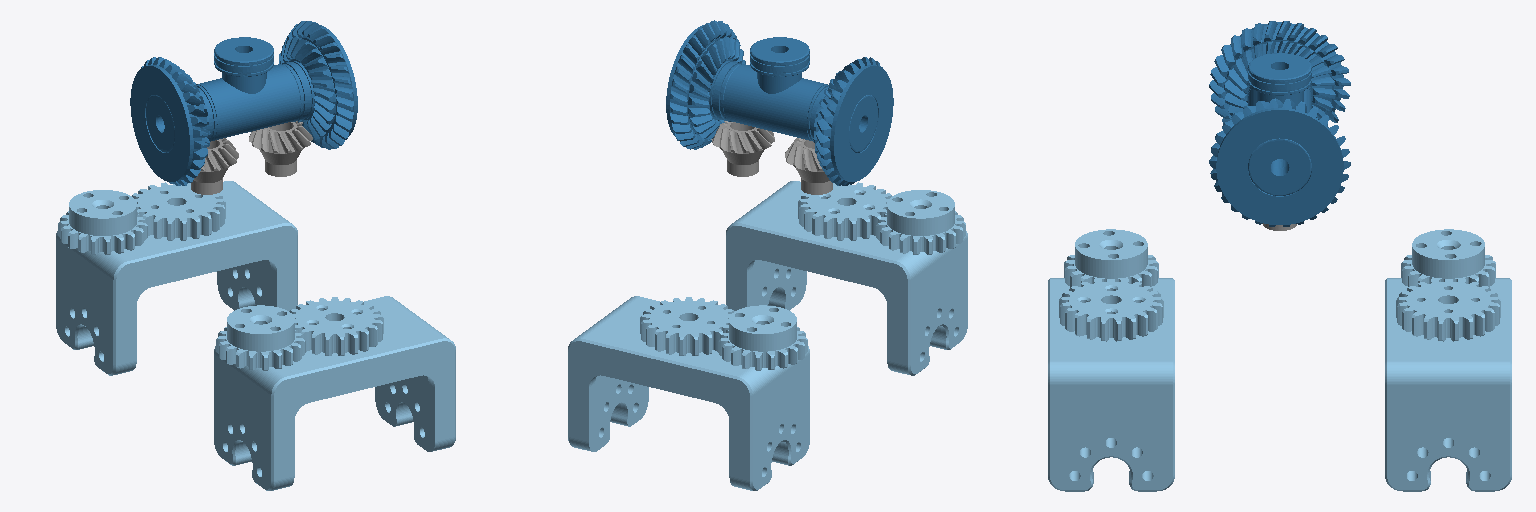
robot.urdf — toddlerbot_legs:
<?xml version="1.0" ?><robot name="toddlerbot_legs">  
  <link name="torso">    
    <visual>      
      <origin xyz="0 0 0" rpy="0 -0 0"/>      
      <geometry>        
        <mesh filename="package:///meshes/torso_visual.stl"/>        
      </geometry>      
      <material name="torso_material">        
        <color rgba="0.58593977560074750333 0.73200332251165189934 0.84622153029708713223 1.0"/>        
      </material>      
    </visual>    
    <collision>      
      <origin xyz="0 0 0" rpy="0 -0 0"/>      
      <geometry>        
        <mesh filename="package:///meshes/torso_collision.stl"/>        
      </geometry>      
    </collision>    
    <inertial>      
      <origin xyz="-0.0075186748665465336777 0.0025090333219585044845 0.072270970201894393914" rpy="0 0 0"/>      
      <mass value="0.58475267652546314423"/>      
      <inertia ixx="0.0016182311860030490405" ixy="-1.4904703028685398913e-05" ixz="-2.0792700935848309104e-06" iyy="0.0013132464205886527821" iyz="2.3933304520818679713e-05" izz="0.0011865975677379551282"/>      
    </inertial>    
  </link>  

  <link name="waist_gears">    
    <visual>      
      <origin xyz="0 0 0" rpy="0 -0 0"/>      
      <geometry>        
        <mesh filename="package:///meshes/waist_gears_visual.stl"/>        
      </geometry>      
      <material name="waist_gears_material">        
        <color rgba="0.2632766275256509525 0.51746399844275270397 0.70128653634567084119 1.0"/>        
      </material>      
    </visual>    
    <collision>      
      <origin xyz="0 0 0" rpy="0 -0 0"/>      
      <geometry>        
        <mesh filename="package:///meshes/waist_gears_collision.stl"/>        
      </geometry>      
    </collision>    
    <inertial>      
      <origin xyz="-2.9688764928041068262e-07 5.6464343503266493767e-08 -0.012588230079602372169" rpy="0 0 0"/>      
      <mass value="0.025809950030454158199"/>      
      <inertia ixx="1.5121316248348308453e-06" ixy="1.8766601003449190681e-11" ixz="4.0584247096300465977e-10" iyy="7.254038670046187235e-06" iyz="3.1280091522235431051e-12" izz="6.9379699728506212154e-06"/>      
    </inertial>    
  </link>  

  <link name="waist_link">    
    <visual>      
      <origin xyz="0 0 0" rpy="0 -0 0"/>      
      <geometry>        
        <mesh filename="package:///meshes/waist_link_visual.stl"/>        
      </geometry>      
      <material name="waist_link_material">        
        <color rgba="0.63401200025306070351 0.68204699127249923674 0.6691019398503622595 1.0"/>        
      </material>      
    </visual>    
    <collision>      
      <origin xyz="0 0 0" rpy="0 -0 0"/>      
      <geometry>        
        <mesh filename="package:///meshes/waist_link_collision.stl"/>        
      </geometry>      
    </collision>    
    <inertial>      
      <origin xyz="-9.1086191328831884098e-07 0.026204483755308764087 -0.030190392008842690391" rpy="0 0 0"/>      
      <mass value="0.16631953490612461088"/>      
      <inertia ixx="6.8622997376115475059e-05" ixy="-6.1328048432543562216e-10" ixz="-3.6786792027265892827e-06" iyy="0.00020057117429216812874" iyz="-3.7255079147358228843e-06" izz="0.00015770127977213135168"/>      
    </inertial>    
  </link>  

  <link name="spiral_bevel_1m_14t_30deg">    
    <visual>      
      <origin xyz="0 0 0" rpy="0 -0 0"/>      
      <geometry>        
        <mesh filename="package:///meshes/spiral_bevel_1m_14t_30deg_visual.stl"/>        
      </geometry>      
      <material name="spiral_bevel_1m_14t_30deg_material">        
        <color rgba="0.64705882352941179736 0.64705882352941179736 0.64705882352941179736 1.0"/>        
      </material>      
    </visual>    
    <collision>      
      <origin xyz="0 0 0" rpy="0 -0 0"/>      
      <geometry>        
        <mesh filename="package:///meshes/spiral_bevel_1m_14t_30deg_collision.stl"/>        
      </geometry>      
    </collision>    
    <inertial>      
      <origin xyz="8.2641075233036431769e-10 3.4055789785436557278e-10 0.0068612577407481632752" rpy="0 0 0"/>      
      <mass value="0.00067997563436136235649"/>      
      <inertia ixx="1.2174575798018972184e-08" ixy="3.8216075412375150261e-18" ixz="4.7204547862376369162e-16" iyy="1.2174575801813739345e-08" iyz="-2.6184097722348798477e-16" izz="1.3178653206314319982e-08"/>      
    </inertial>    
  </link>  

  <joint name="waist_act_1" type="revolute">    
    <origin xyz="5.280785712277463867e-16 0.019600000000000086103 -0.012750000000000089387" rpy="1.5707963267949007768 1.5707963267948918951 0"/>    
    <parent link="waist_link"/>    
    <child link="spiral_bevel_1m_14t_30deg"/>    
    <axis xyz="0 0 1"/>    
    <limit effort="1" velocity="20" lower="-2.7825534678416246059" upper="2.7825534678416246059"/>    
    <joint_properties friction="0.0"/>    
  </joint>  

  <link name="spiral_bevel_1m_14t_30deg_2">    
    <visual>      
      <origin xyz="0 0 0" rpy="0 -0 0"/>      
      <geometry>        
        <mesh filename="package:///meshes/spiral_bevel_1m_14t_30deg_2_visual.stl"/>        
      </geometry>      
      <material name="spiral_bevel_1m_14t_30deg_2_material">        
        <color rgba="0.64705882352941179736 0.64705882352941179736 0.64705882352941179736 1.0"/>        
      </material>      
    </visual>    
    <collision>      
      <origin xyz="0 0 0" rpy="0 -0 0"/>      
      <geometry>        
        <mesh filename="package:///meshes/spiral_bevel_1m_14t_30deg_2_collision.stl"/>        
      </geometry>      
    </collision>    
    <inertial>      
      <origin xyz="7.299096500823498701e-10 5.1591309270179412606e-10 0.0068612577407481632752" rpy="0 0 0"/>      
      <mass value="0.00067997563436136235649"/>      
      <inertia ixx="1.2174575796548751289e-08" ixy="2.6199059649779442379e-18" ixz="5.1847541177444225726e-16" iyy="1.2174575803283980091e-08" iyz="-1.5023607647403962116e-16" izz="1.3178653206314316674e-08"/>      
    </inertial>    
  </link>  

  <joint name="waist_act_2" type="revolute">    
    <origin xyz="-2.7139481743289301149e-16 0.019599999999999884875 -0.032749999999999626632" rpy="1.5707963267948958919 1.3463968515392312764 -4.6112523179512435393e-14"/>    
    <parent link="waist_link"/>    
    <child link="spiral_bevel_1m_14t_30deg_2"/>    
    <axis xyz="0 0 1"/>    
    <limit effort="1" velocity="20" lower="-2.7825534678416246059" upper="2.7825534678416246059"/>    
    <joint_properties friction="0.0"/>    
  </joint>  

  <link name="spur_gear_19_teeth">    
    <visual>      
      <origin xyz="0 0 0" rpy="0 -0 0"/>      
      <geometry>        
        <mesh filename="package:///meshes/spur_gear_19_teeth_visual.stl"/>        
      </geometry>      
      <material name="spur_gear_19_teeth_material">        
        <color rgba="0.61568627450980395466 0.81176470588235294379 0.92941176470588238168 1.0"/>        
      </material>      
    </visual>    
    <collision>      
      <origin xyz="0 0 0" rpy="0 -0 0"/>      
      <geometry>        
        <mesh filename="package:///meshes/spur_gear_19_teeth_collision.stl"/>        
      </geometry>      
    </collision>    
    <inertial>      
      <origin xyz="-4.9968063132990057014e-09 -7.9242207278620244307e-11 0.0045295192537419945097" rpy="0 0 0"/>      
      <mass value="0.0010993711450650537481"/>      
      <inertia ixx="2.9215018435433075427e-08" ixy="2.5903313772733109345e-16" ixz="8.5599808504110491437e-15" iyy="2.9215021540034058468e-08" iyz="1.1526881392988152558e-16" izz="4.5709977027671368266e-08"/>      
    </inertial>    
  </link>  

  <joint name="left_hip_yaw_drive" type="revolute">    
    <origin xyz="-0.036999999999998180178 0.037100000000006128076 -0.039500000000001304901" rpy="-1.5707963267949545116 -4.7901784552298407448e-13 -3.592506663906207747e-13"/>    
    <parent link="waist_link"/>    
    <child link="spur_gear_19_teeth"/>    
    <axis xyz="0 0 1"/>    
    <limit effort="1" velocity="20" lower="-1.4211966766239538806" upper="1.4211966766239538806"/>    
    <joint_properties friction="0.0"/>    
  </joint>  

  <link name="spur_gear_21_teeth">    
    <visual>      
      <origin xyz="0 0 0" rpy="0 -0 0"/>      
      <geometry>        
        <mesh filename="package:///meshes/spur_gear_21_teeth_visual.stl"/>        
      </geometry>      
      <material name="spur_gear_21_teeth_material">        
        <color rgba="0.61568627450980395466 0.81176470588235294379 0.92941176470588238168 1.0"/>        
      </material>      
    </visual>    
    <collision>      
      <origin xyz="0 0 0" rpy="0 -0 0"/>      
      <geometry>        
        <mesh filename="package:///meshes/spur_gear_21_teeth_collision.stl"/>        
      </geometry>      
    </collision>    
    <inertial>      
      <origin xyz="-4.7814841746391350153e-10 -1.2610157619056981848e-12 0.0024944618616143296973" rpy="0 0 0"/>      
      <mass value="0.0010063046528317972673"/>      
      <inertia ixx="3.1842855421068488283e-08" ixy="-8.2234595750147931764e-39" ixz="0" iyy="3.1842855426953785697e-08" iyz="0" izz="5.9529380586728034749e-08"/>      
    </inertial>    
  </link>  

  <link name="left_leg_xm430">    
    <visual>      
      <origin xyz="0 0 0" rpy="0 -0 0"/>      
      <geometry>        
        <mesh filename="package:///meshes/left_leg_xm430_visual.stl"/>        
      </geometry>      
      <material name="left_leg_xm430_material">        
        <color rgba="0.61568627450980395466 0.81176470588235294379 0.92941176470588238168 1.0"/>        
      </material>      
    </visual>    
    <collision>      
      <origin xyz="0 0 0" rpy="0 -0 0"/>      
      <geometry>        
        <mesh filename="package:///meshes/left_leg_xm430_collision.stl"/>        
      </geometry>      
    </collision>    
    <inertial>      
      <origin xyz="7.1483402244533405971e-19 -6.4049127810723492124e-19 -0.0098390489054829034787" rpy="0 0 0"/>      
      <mass value="0.017999999999999995171"/>      
      <inertia ixx="2.638503389144253662e-06" ixy="2.2631754297690434276e-36" ixz="-2.9183059949877146772e-36" iyy="7.6596731957046890345e-06" iyz="3.2916879946902348384e-35" izz="7.7220708070894769837e-06"/>      
    </inertial>    
  </link>  

  <joint name="left_leg_fixed" type="fixed">    
    <origin xyz="0 0 0.004999999999999997502" rpy="3.1415926535897873428 -0 -1.7068474724759580563e-30"/>    
    <parent link="spur_gear_21_teeth"/>    
    <child link="left_leg_xm430"/>    
    <axis xyz="0 0 1"/>    
    <limit effort="1" velocity="20"/>    
    <joint_properties friction="0.0"/>    
  </joint>  

  <joint name="left_hip_yaw_driven" type="revolute">    
    <origin xyz="-0.036999999999999998168 0.041099999999999997646 -0.019499999999999968747" rpy="-1.5707963267949003328 -1.5707963267948956698 0"/>    
    <parent link="waist_link"/>    
    <child link="spur_gear_21_teeth"/>    
    <axis xyz="0 0 1"/>    
    <limit effort="1" velocity="20" lower="-1.570796326794896558" upper="1.570796326794896558"/>    
    <joint_properties friction="0.0"/>    
  </joint>  

  <link name="spur_gear_19_teeth_2">    
    <visual>      
      <origin xyz="0 0 0" rpy="0 -0 0"/>      
      <geometry>        
        <mesh filename="package:///meshes/spur_gear_19_teeth_2_visual.stl"/>        
      </geometry>      
      <material name="spur_gear_19_teeth_2_material">        
        <color rgba="0.61568627450980395466 0.81176470588235294379 0.92941176470588238168 1.0"/>        
      </material>      
    </visual>    
    <collision>      
      <origin xyz="0 0 0" rpy="0 -0 0"/>      
      <geometry>        
        <mesh filename="package:///meshes/spur_gear_19_teeth_2_collision.stl"/>        
      </geometry>      
    </collision>    
    <inertial>      
      <origin xyz="-4.9968063063601126247e-09 -7.924221074806719626e-11 0.0045295192537419875708" rpy="0 0 0"/>      
      <mass value="0.0010993711450650537481"/>      
      <inertia ixx="2.9215018435433082044e-08" ixy="2.5903313772733109345e-16" ixz="8.5599808504110491437e-15" iyy="2.9215021540034058468e-08" iyz="1.1526881392988152558e-16" izz="4.5709977027671368266e-08"/>      
    </inertial>    
  </link>  

  <joint name="right_hip_yaw_drive" type="revolute">    
    <origin xyz="0.037000000000001753708 0.03710000000000365783 -0.03950000000000099265" rpy="-1.5707963267949678343 -3.4916821824591171931e-13 -4.5331578110491156048e-13"/>    
    <parent link="waist_link"/>    
    <child link="spur_gear_19_teeth_2"/>    
    <axis xyz="0 0 1"/>    
    <limit effort="1" velocity="20" lower="-1.4211966766239538806" upper="1.4211966766239538806"/>    
    <joint_properties friction="0.0"/>    
  </joint>  

  <link name="spur_gear_21_teeth_2">    
    <visual>      
      <origin xyz="0 0 0" rpy="0 -0 0"/>      
      <geometry>        
        <mesh filename="package:///meshes/spur_gear_21_teeth_2_visual.stl"/>        
      </geometry>      
      <material name="spur_gear_21_teeth_2_material">        
        <color rgba="0.61568627450980395466 0.81176470588235294379 0.92941176470588238168 1.0"/>        
      </material>      
    </visual>    
    <collision>      
      <origin xyz="0 0 0" rpy="0 -0 0"/>      
      <geometry>        
        <mesh filename="package:///meshes/spur_gear_21_teeth_2_collision.stl"/>        
      </geometry>      
    </collision>    
    <inertial>      
      <origin xyz="-4.7814841746391350153e-10 1.2610157619056981848e-12 0.0025055381383856678047" rpy="0 0 0"/>      
      <mass value="0.0010063046528317972673"/>      
      <inertia ixx="3.1842855421068488283e-08" ixy="-2.1931238668045418773e-38" ixz="0" iyy="3.1842855426953785697e-08" iyz="0" izz="5.9529380586728034749e-08"/>      
    </inertial>    
  </link>  

  <link name="right_leg_xm430">    
    <visual>      
      <origin xyz="0 0 0" rpy="0 -0 0"/>      
      <geometry>        
        <mesh filename="package:///meshes/right_leg_xm430_visual.stl"/>        
      </geometry>      
      <material name="right_leg_xm430_material">        
        <color rgba="0.61568627450980395466 0.81176470588235294379 0.92941176470588238168 1.0"/>        
      </material>      
    </visual>    
    <collision>      
      <origin xyz="0 0 0" rpy="0 -0 0"/>      
      <geometry>        
        <mesh filename="package:///meshes/right_leg_xm430_collision.stl"/>        
      </geometry>      
    </collision>    
    <inertial>      
      <origin xyz="7.1483402244533251896e-19 -6.404912781072197064e-19 -0.0098390489054829104176" rpy="0 0 0"/>      
      <mass value="0.017999999999999995171"/>      
      <inertia ixx="2.638503389144253662e-06" ixy="3.5463491813255914207e-36" ixz="0" iyy="7.6596731957046890345e-06" iyz="0" izz="7.7220708070894769837e-06"/>      
    </inertial>    
  </link>  

  <joint name="right_leg_fixed" type="fixed">    
    <origin xyz="0 0 0.004999999999999997502" rpy="-3.141592653589793116 -0 -3.4436670920376892537e-31"/>    
    <parent link="spur_gear_21_teeth_2"/>    
    <child link="right_leg_xm430"/>    
    <axis xyz="0 0 1"/>    
    <limit effort="1" velocity="20"/>    
    <joint_properties friction="0.0"/>    
  </joint>  

  <joint name="right_hip_yaw_driven" type="revolute">    
    <origin xyz="0.037000000000000005107 0.041100000000000025402 -0.019499999999999965278" rpy="-1.5707963267949003328 -1.5707963267948956698 0"/>    
    <parent link="waist_link"/>    
    <child link="spur_gear_21_teeth_2"/>    
    <axis xyz="0 0 1"/>    
    <limit effort="1" velocity="20" lower="-1.570796326794896558" upper="1.570796326794896558"/>    
    <joint_properties friction="0.0"/>    
  </joint>  

  <joint name="waist_roll" type="revolute">    
    <origin xyz="-0.022707865260691555837 -1.3531682581278302231e-17 -0.01400000000000022754" rpy="-1.5707963267949187625 -1.8109711313713014789e-14 1.5707963267948794606"/>    
    <parent link="waist_gears"/>    
    <child link="waist_link"/>    
    <axis xyz="0 0 1"/>    
    <limit effort="1" velocity="20" lower="-0.52359877559829881566" upper="0.52359877559829881566"/>    
    <joint_properties friction="0.0"/>    
  </joint>  

  <joint name="waist_yaw" type="revolute">    
    <origin xyz="0 2.1696821152739187355e-18 7.7715611723760987412e-16" rpy="8.8888408709675104228e-15 1.5372781523506735431e-14 -3.1415926535897900074"/>    
    <parent link="torso"/>    
    <child link="waist_gears"/>    
    <axis xyz="0 0 1"/>    
    <limit effort="1" velocity="20" lower="-1.570796326794896558" upper="1.570796326794896558"/>    
    <joint_properties friction="0.0"/>    
  </joint>  


</robot>

--- Render facts (derived) ---
Views: 3 orthographic renders of the robot side by side, from view 1: azimuth 30°, elevation 25°; view 2: azimuth 150°, elevation 25°; view 3: azimuth 270°, elevation 25°.
Model toddlerbot_legs with 11 links and 10 joints (8 revolute, 2 fixed), rooted at torso, posed every joint at zero.
Visible links, largest first — view 1: right_leg_xm430, waist_gears, left_leg_xm430, spur_gear_19_teeth_2, spur_gear_19_teeth, spur_gear_21_teeth_2, spur_gear_21_teeth, spiral_bevel_1m_14t_30deg, spiral_bevel_1m_14t_30deg_2; view 2: left_leg_xm430, waist_gears, right_leg_xm430, spur_gear_19_teeth, spur_gear_19_teeth_2, spur_gear_21_teeth, spur_gear_21_teeth_2, spiral_bevel_1m_14t_30deg, spiral_bevel_1m_14t_30deg_2; view 3: waist_gears, left_leg_xm430, right_leg_xm430, spur_gear_21_teeth, spur_gear_21_teeth_2, spur_gear_19_teeth, spur_gear_19_teeth_2.
Boxes of the visible links, x1,y1,x2,y2 form: right_leg_xm430: [214, 296, 455, 490]; waist_gears: [130, 21, 357, 185]; left_leg_xm430: [56, 181, 297, 375]; spur_gear_19_teeth_2: [216, 305, 305, 370]; spur_gear_19_teeth: [58, 190, 147, 254]; spur_gear_21_teeth_2: [289, 297, 383, 355]; spur_gear_21_teeth: [132, 182, 225, 240]; spiral_bevel_1m_14t_30deg: [249, 121, 312, 176]; spiral_bevel_1m_14t_30deg_2: [191, 138, 238, 194]; left_leg_xm430: [568, 296, 809, 490]; waist_gears: [666, 20, 893, 185]; right_leg_xm430: [726, 181, 967, 375]; spur_gear_19_teeth: [718, 305, 807, 370]; spur_gear_19_teeth_2: [876, 190, 965, 254]; spur_gear_21_teeth: [640, 297, 734, 355]; spur_gear_21_teeth_2: [798, 182, 891, 240]; spiral_bevel_1m_14t_30deg: [711, 121, 774, 176]; spiral_bevel_1m_14t_30deg_2: [785, 138, 832, 194]; waist_gears: [1209, 21, 1350, 226]; left_leg_xm430: [1385, 278, 1511, 491]; right_leg_xm430: [1048, 278, 1174, 491]; spur_gear_21_teeth: [1396, 279, 1500, 341]; spur_gear_21_teeth_2: [1059, 279, 1163, 341]; spur_gear_19_teeth: [1401, 229, 1495, 287]; spur_gear_19_teeth_2: [1064, 229, 1158, 287].
Bounding box of the posed robot: 0.0554 × 0.102 × 0.0916 m (x, y, z).
Meshes: 11 distinct files referenced, 9 mesh visuals loaded (9 binary STL); not drawn: 2 (reference not matched to a file when rendering).
